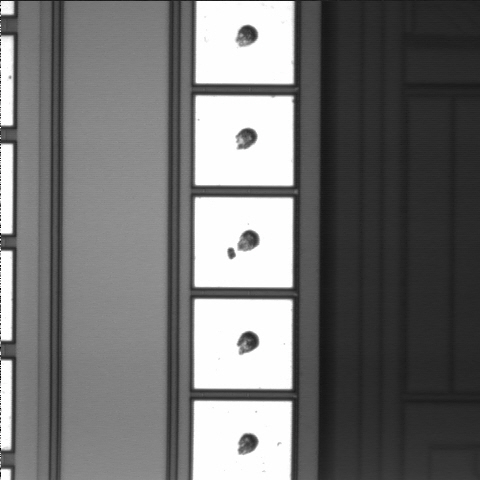pad: (194, 197, 293, 287), (195, 96, 293, 186), (194, 299, 292, 389)
